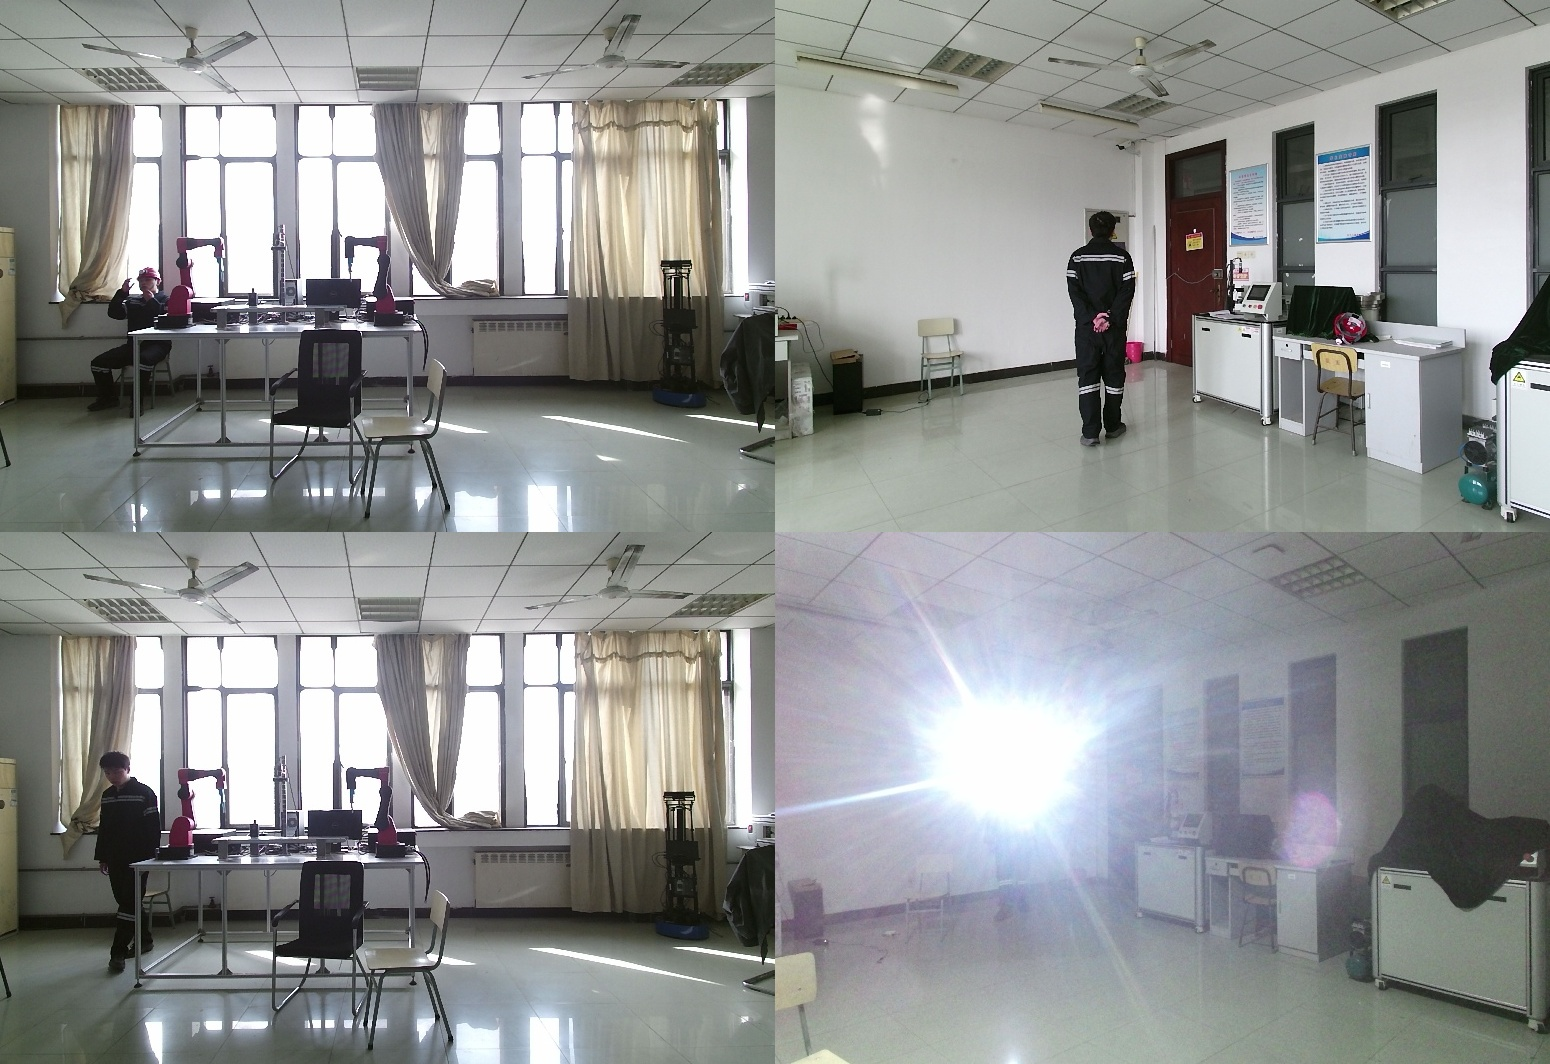person: (1062, 211, 1144, 450), (90, 752, 166, 969), (83, 266, 172, 416), (984, 759, 1041, 924)
